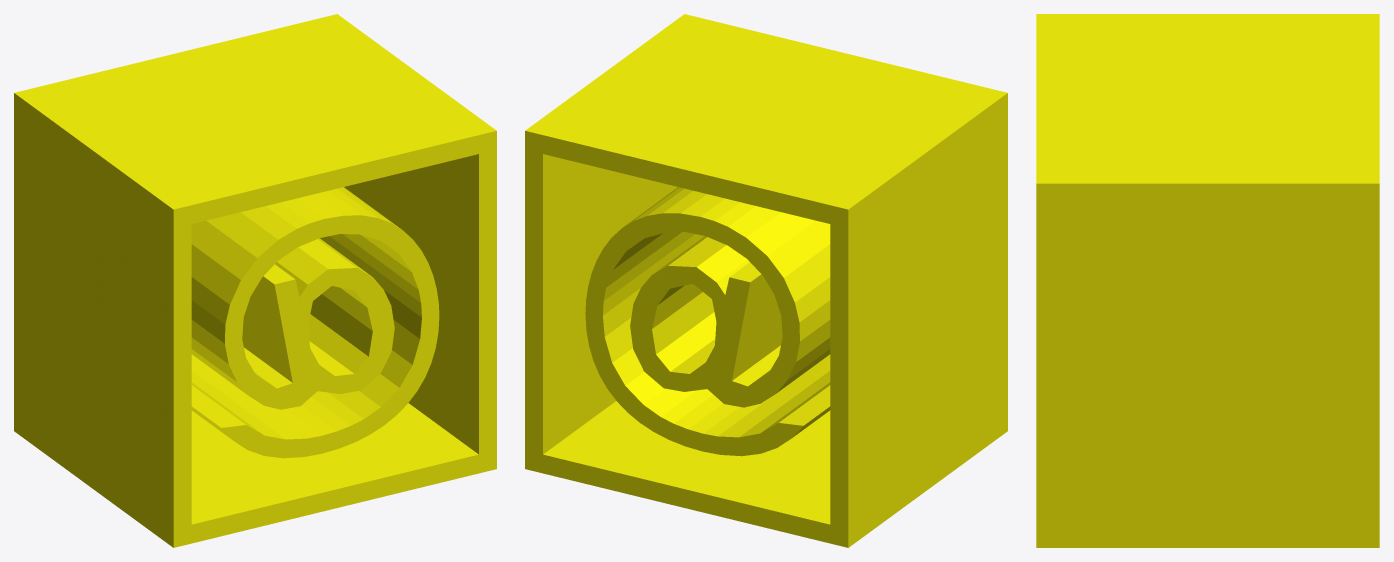
Rendered from AtHighlight.fbx.
3 renders of one model, left to right at view 1: azimuth 30°, elevation 25°; view 2: azimuth 150°, elevation 25°; view 3: azimuth 270°, elevation 25°, orthographic. The views are drawn at different scales.
Parts seen in each view (by area): view 1: AtHighlight; view 2: AtHighlight; view 3: AtHighlight.
Boxes of the visible parts, <box> form: AtHighlight: <box>14,14,496,547</box>; AtHighlight: <box>525,14,1007,547</box>; AtHighlight: <box>1036,14,1379,547</box>.
Bounding box in the file's own units: 224 × 224 × 191.
